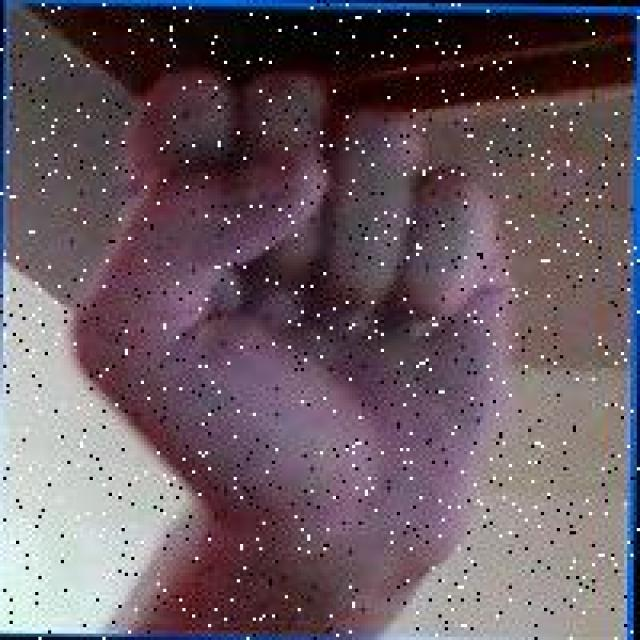S: (67, 54, 522, 564)
